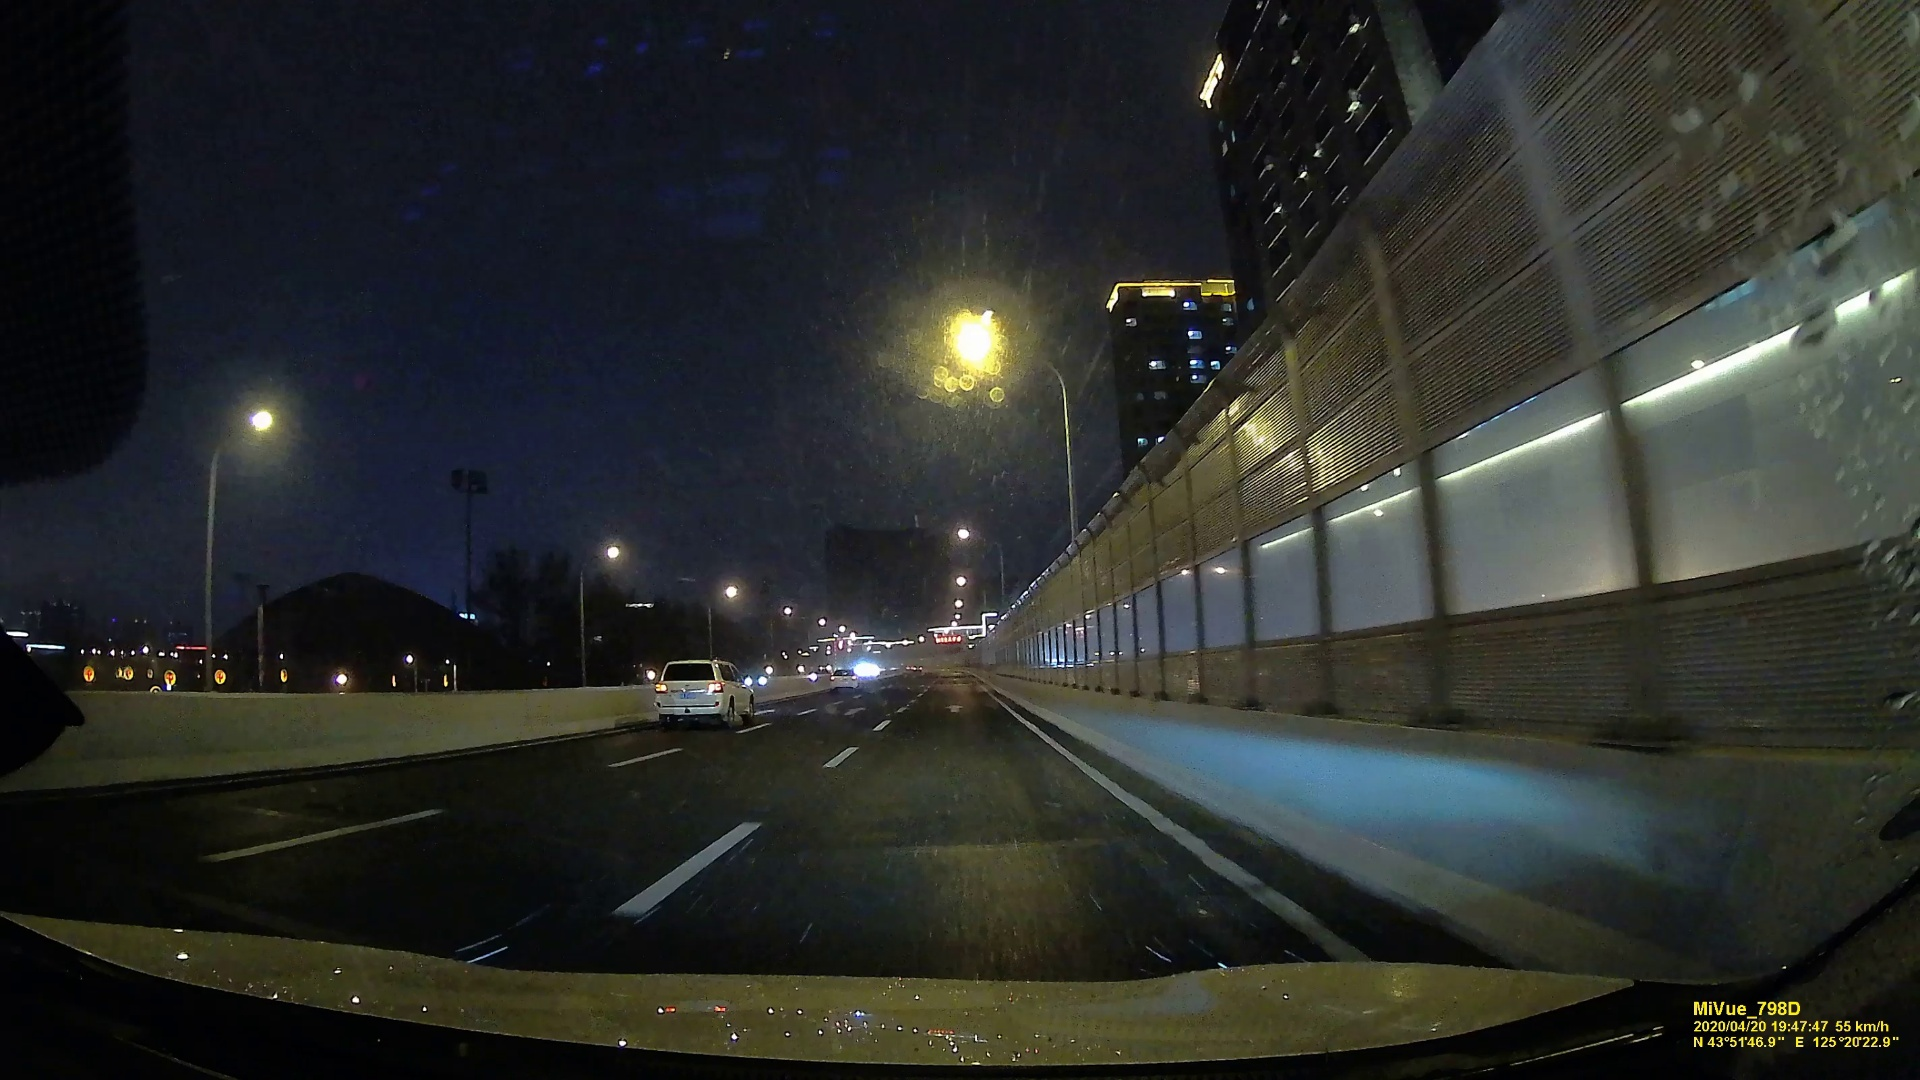vehicle: (653, 661, 756, 727), (828, 669, 862, 690)
